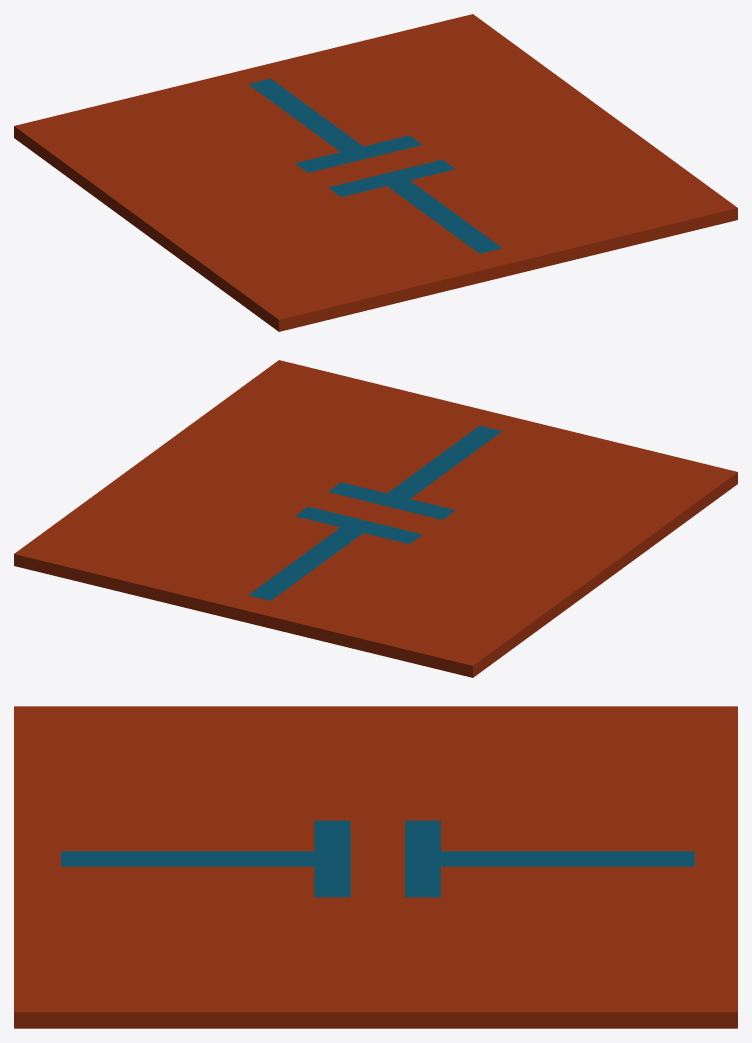
Rendered from TileS_1-2.fbx.
3 views of the same model, one above another, from view 1: azimuth 30°, elevation 25°; view 2: azimuth 150°, elevation 25°; view 3: azimuth 270°, elevation 25° (orthographic). The views are drawn at different scales.
Visible parts, largest first — view 1: TileS_1-2; view 2: TileS_1-2; view 3: TileS_1-2.
Boxes of the visible parts, left/top/right/bottom form: TileS_1-2: left=14, top=14, right=737, bottom=331; TileS_1-2: left=14, top=360, right=737, bottom=677; TileS_1-2: left=14, top=706, right=737, bottom=1028.
Size of the model in its own units: 2 by 2 by 0.051.
